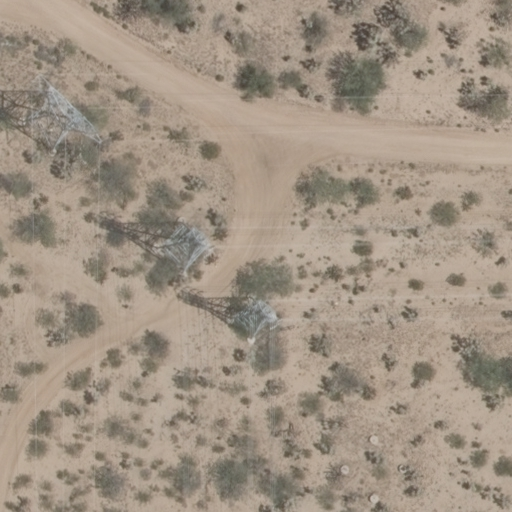TT: (32, 86, 104, 165), (150, 214, 215, 278), (229, 293, 279, 347)
